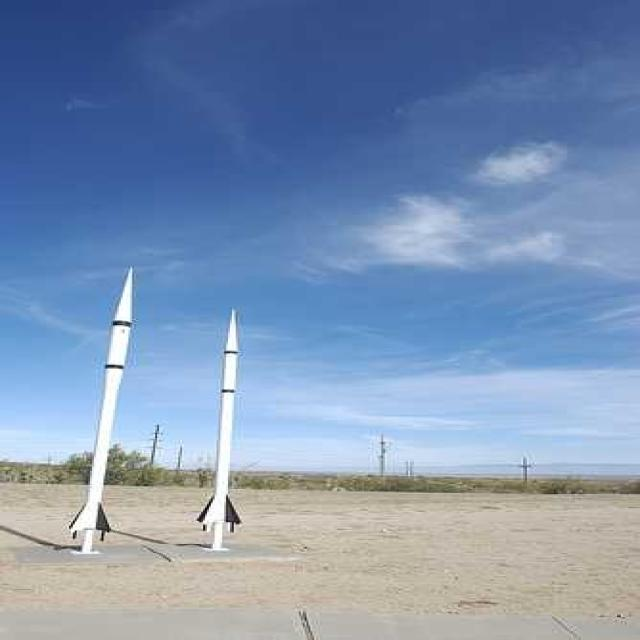missile: (67, 266, 137, 558), (198, 304, 247, 554)
